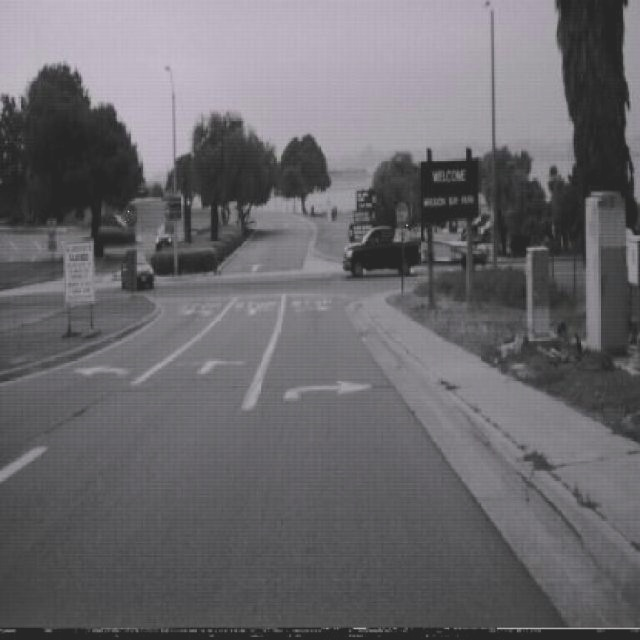stop: (394, 203, 408, 234), (123, 202, 137, 230)
